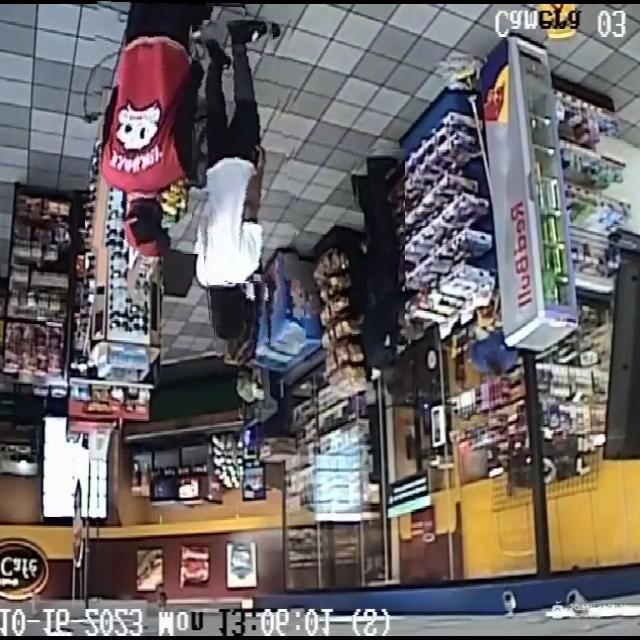Normal: (86, 0, 242, 254), (192, 20, 299, 350), (351, 149, 405, 399), (213, 282, 269, 409)
